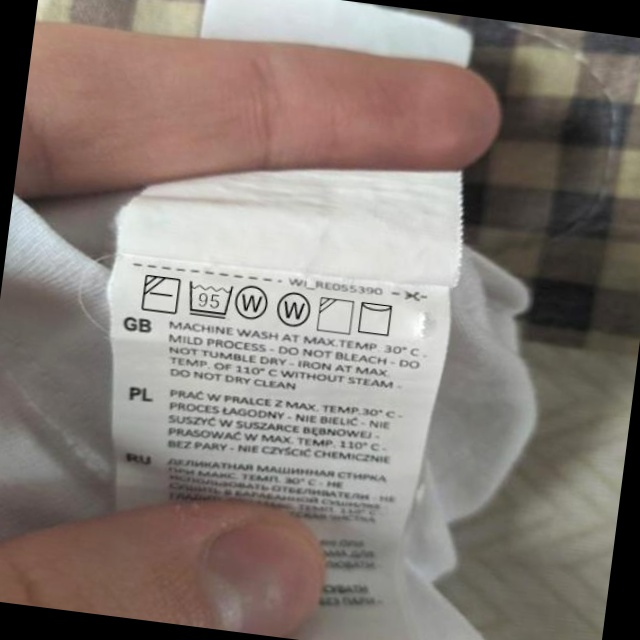95C: (184, 277, 236, 321)
dry_flat_in_shade: (139, 270, 183, 317)
line_dry: (354, 297, 398, 339)
shade_dry: (314, 294, 357, 337)
wet_clean: (233, 279, 273, 324), (274, 289, 314, 332)
